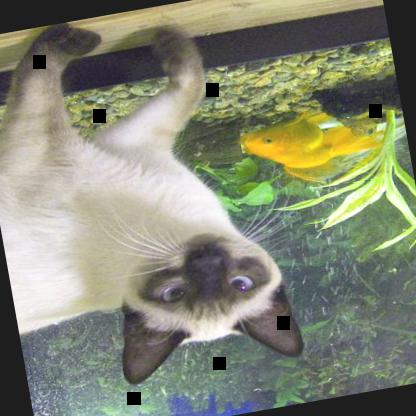cat: (0, 0, 308, 404)
